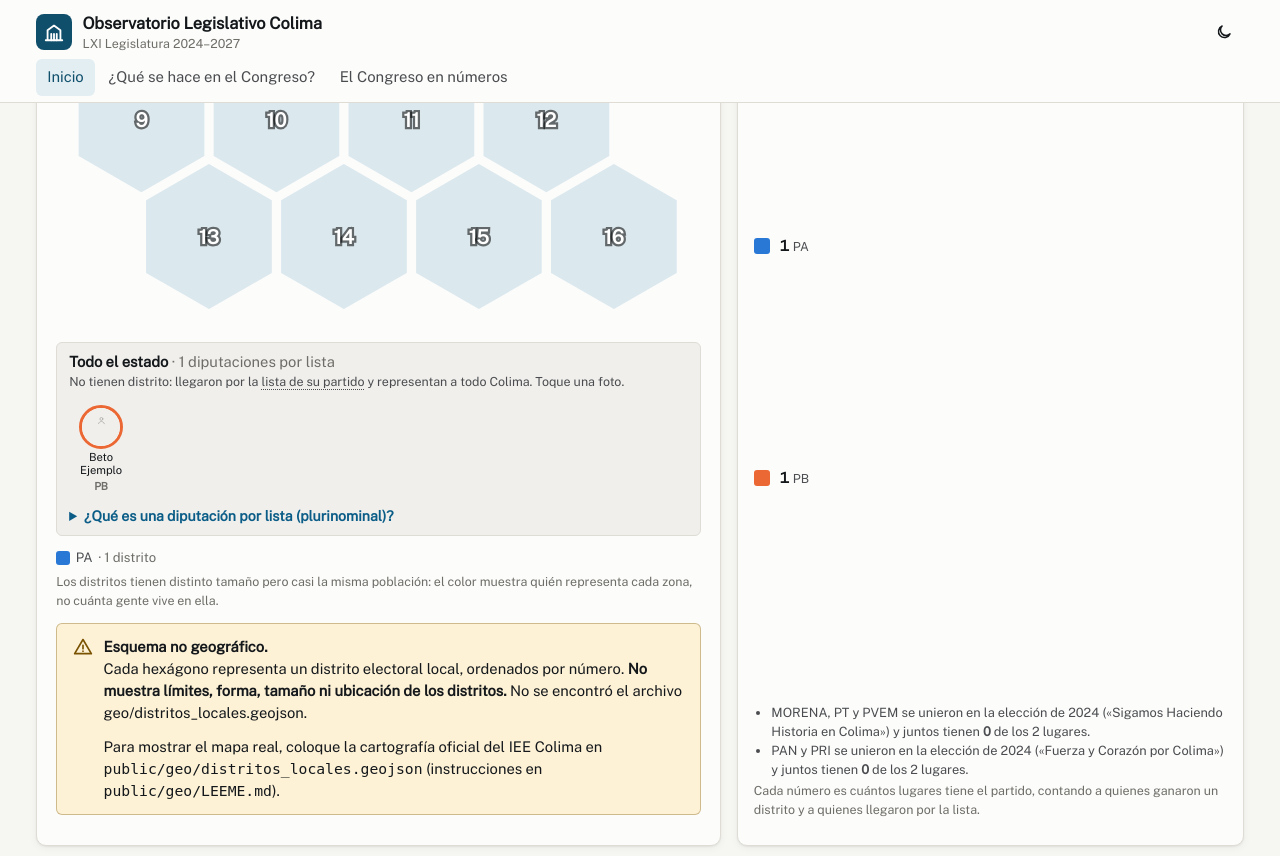
Test case: interfaz › las diputaciones RP tienen su ficha desde el inicio y la página vieja lleva a Diputaciones filtrada
(page scrolled)
Click the button "Beto Ejemplo PB" at (101, 450), box 69,400 -> 133,500
(page scrolled)
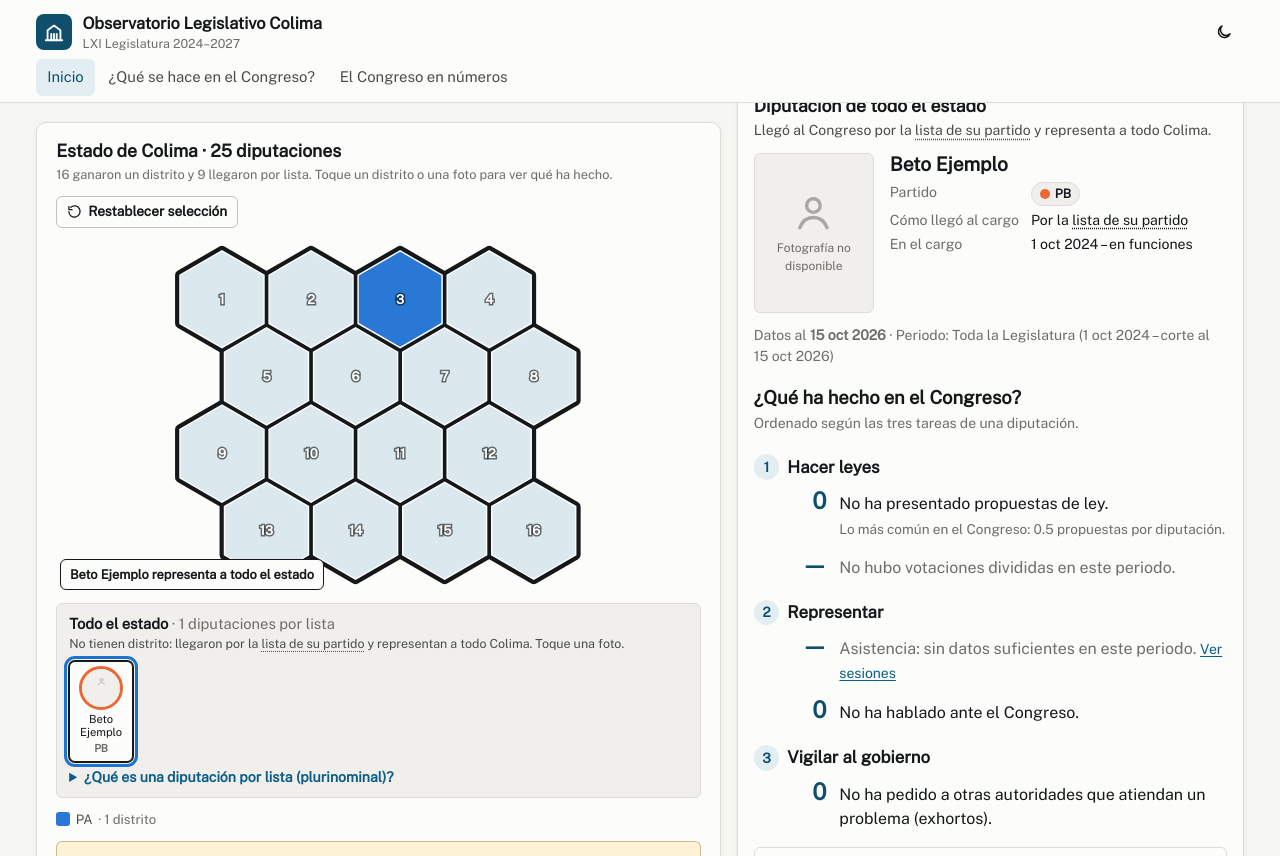
Now the heading "Beto Ejemplo" is shown, box 890,153 -> 1008,175
Now the heading "Diputación de todo el estado" is shown, box 754,95 -> 986,116
